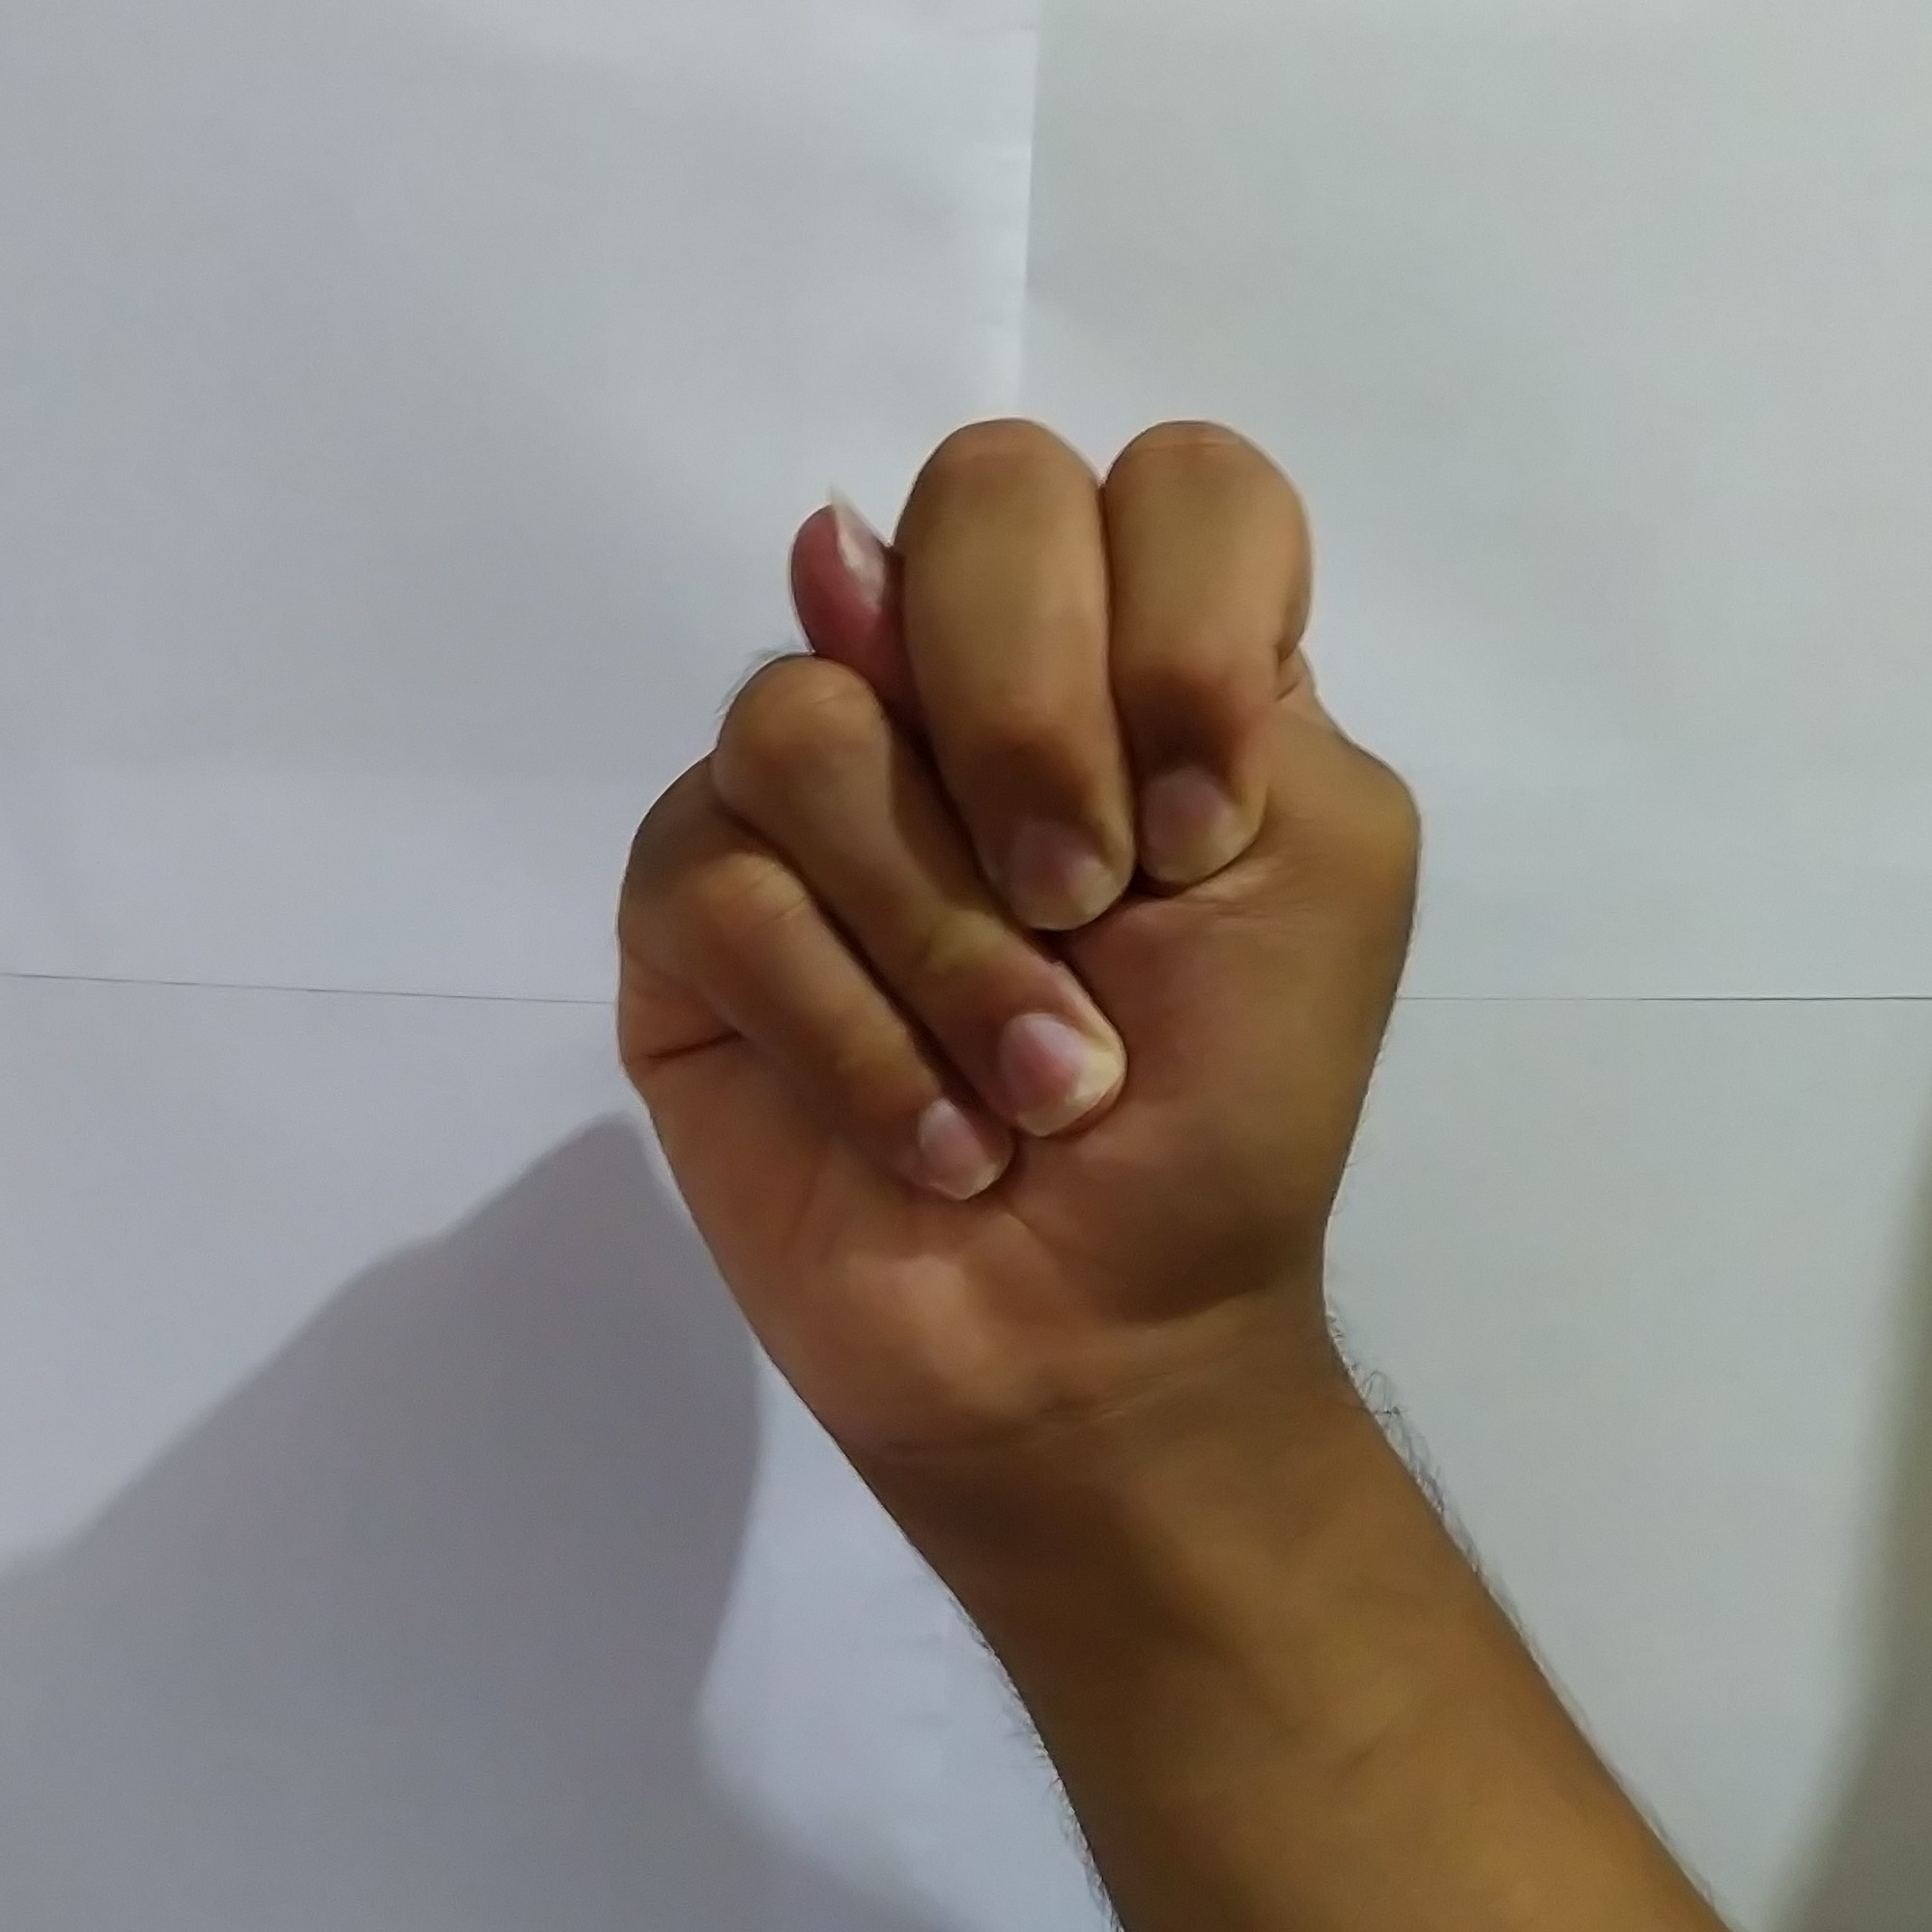N: (591, 380, 1451, 1380)
